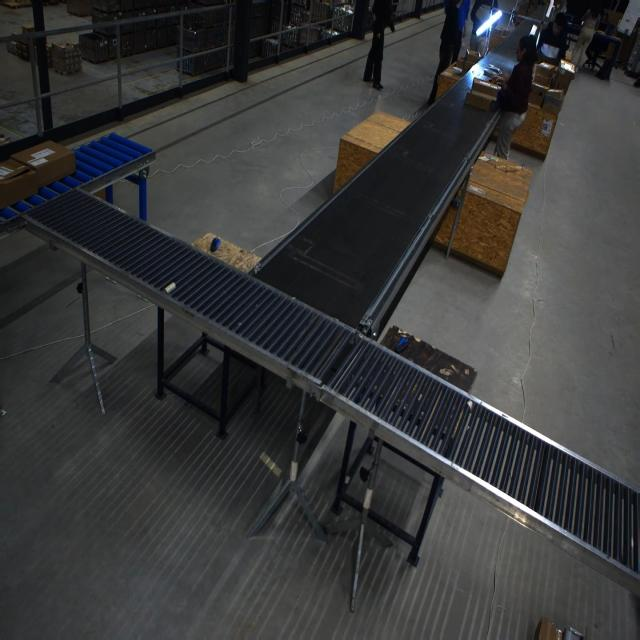box: (464, 87, 498, 117), (470, 74, 505, 101)
